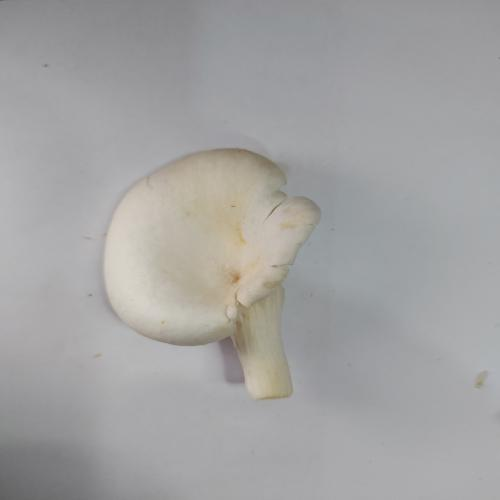Oyster Mushroom: (101, 147, 322, 401)
